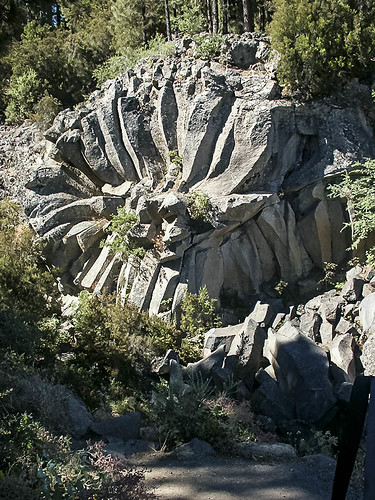rocks: (11, 56, 375, 415)
